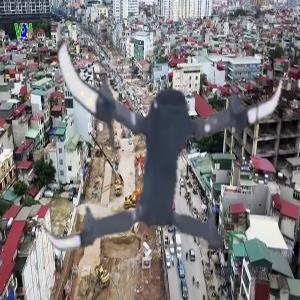drone: (33, 5, 295, 267)
